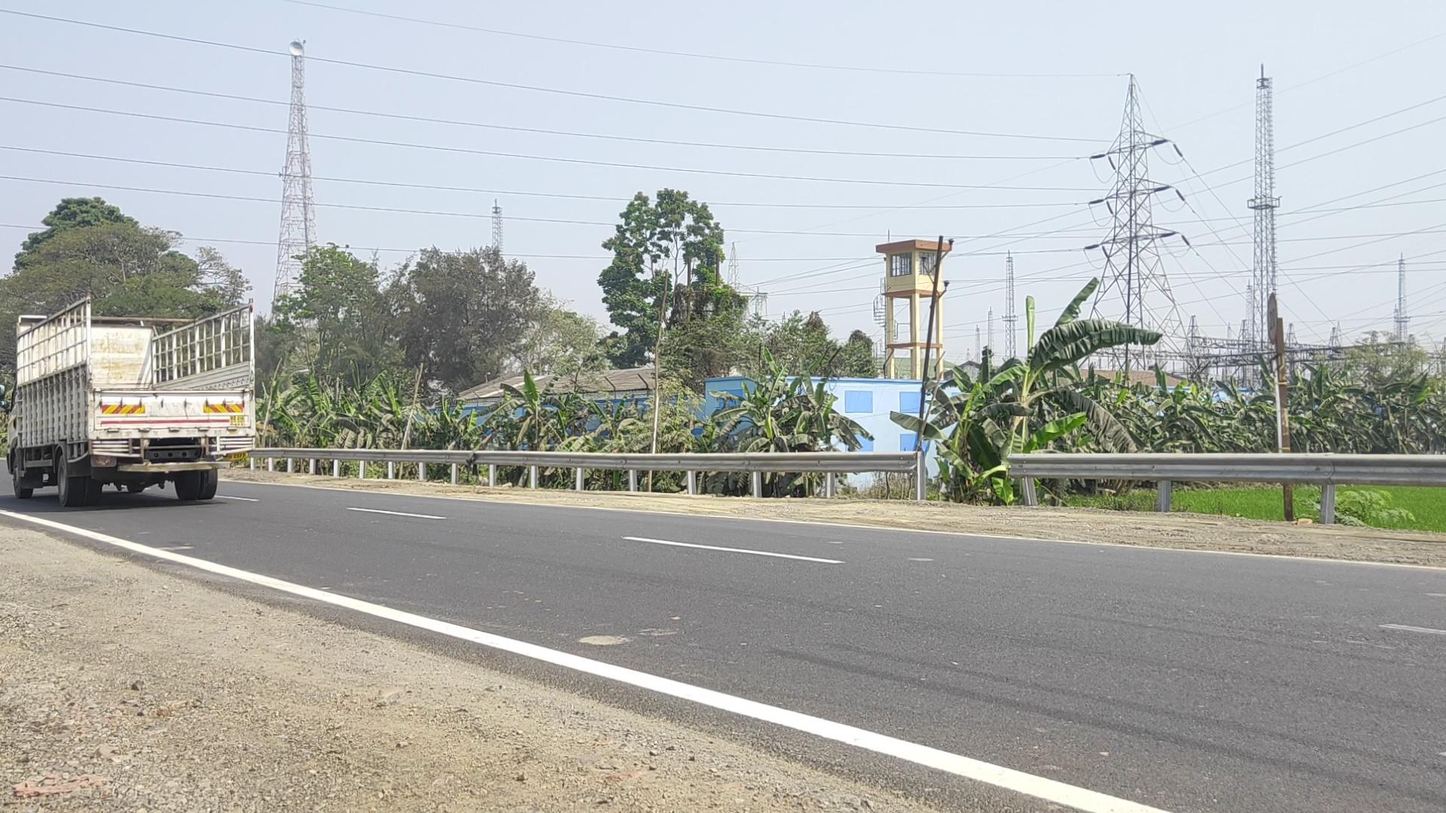van: (1, 291, 255, 508)
